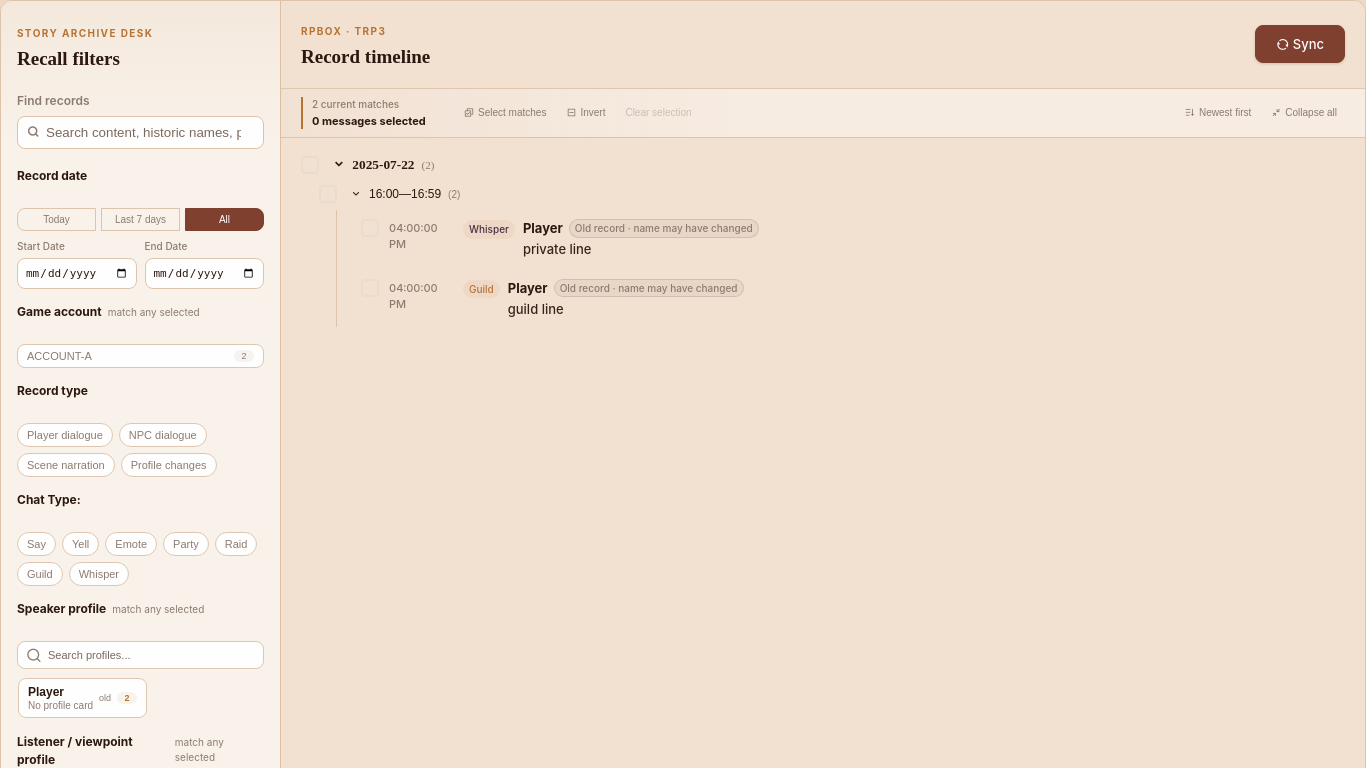
Test: StagingPool › normalizes inbound and outbound whispers and exposes the guild channel
Expected: the button with class "filter-chip" showing "Guild" is shown, [17,562,63,586]
Click the button with class "filter-chip" showing "Whisper".
click(99, 574)  # box [69,562,129,586]
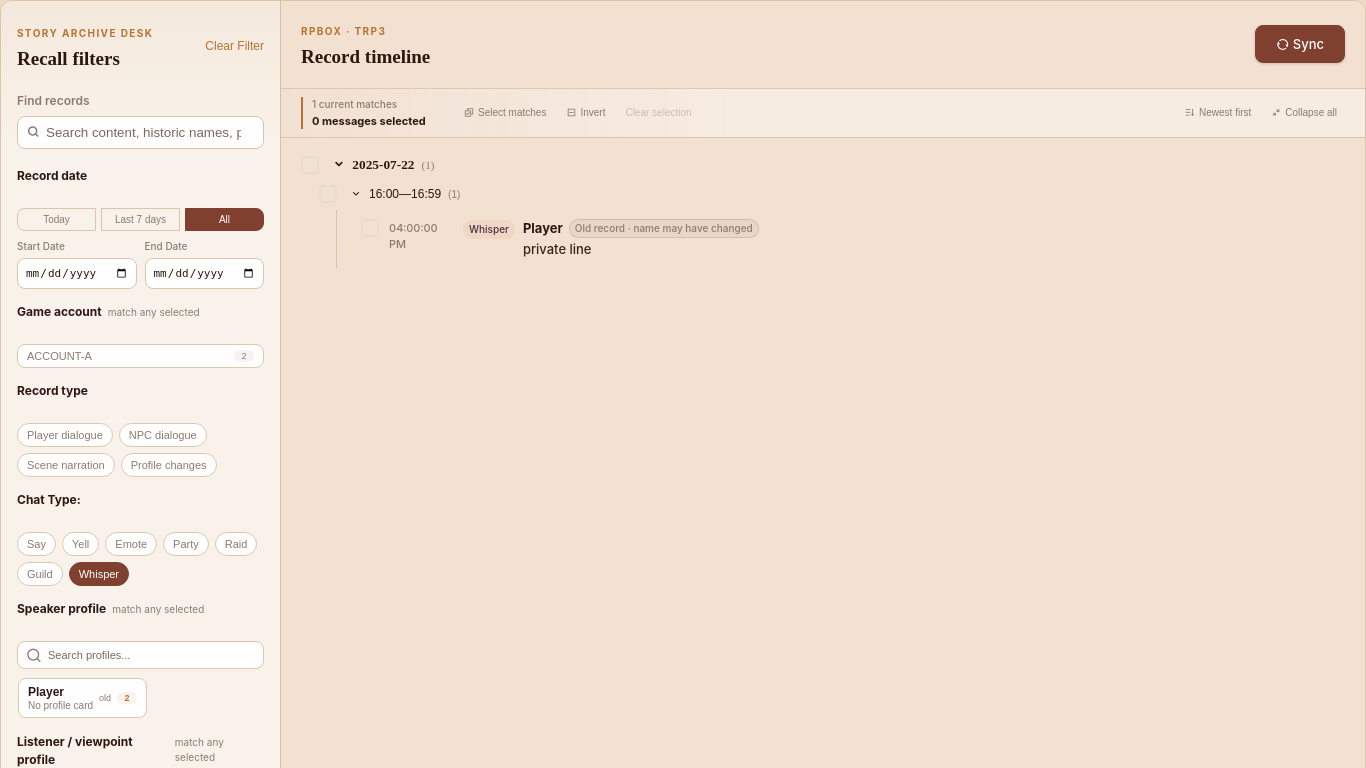
Expected: the text "private line" is shown, [523,241,592,257]
Expected: the number of checkboxes with class "record-item" is 1, [361,219,759,257]
Expected: the text "guild line" is gone
